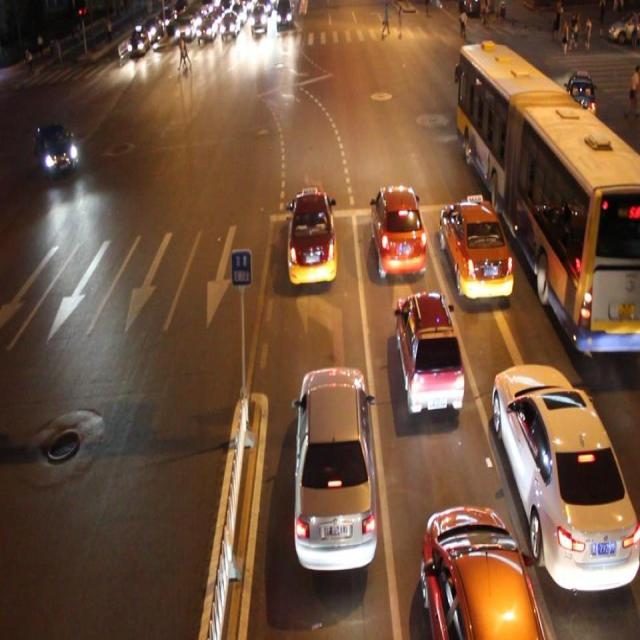car: (488, 360, 640, 594), (294, 363, 376, 566), (423, 502, 541, 640), (392, 290, 462, 414), (438, 195, 512, 305), (369, 182, 427, 278), (286, 188, 338, 287), (34, 123, 79, 176), (563, 66, 594, 116)
van: (454, 37, 640, 359)
